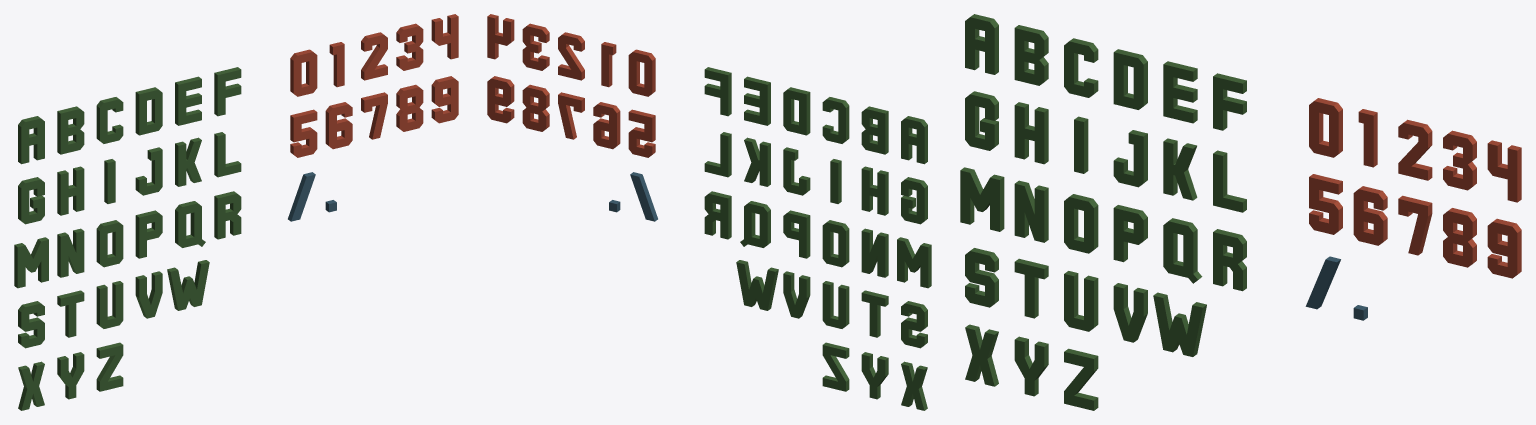
File: 3D_text_elements.glb
The picture shows the model from 3 angles, left to right: view 1: azimuth 30°, elevation 25°; view 2: azimuth 150°, elevation 25°; view 3: azimuth 330°, elevation 25°; orthographic projection. The views are drawn at different scales.
Parts seen in each view (by area): view 1: W, M, N, B, D, R, Q, 8, G, 6, 9, H (+25 smaller); view 2: W, M, N, B, D, R, Q, 8, G, 6, 9, H (+25 smaller); view 3: M, W, N, B, Q, D, 6, 9, G, R, H, O (+25 smaller).
Boxes of the visible parts, x1=… form: W: x1=167, y1=260, x2=209, y2=310; M: x1=14, y1=237, x2=48, y2=288; N: x1=57, y1=228, x2=84, y2=277; B: x1=57, y1=106, x2=84, y2=154; D: x1=135, y1=87, x2=162, y2=135; R: x1=214, y1=191, x2=241, y2=239; Q: x1=175, y1=201, x2=205, y2=247; 8: x1=396, y1=84, x2=423, y2=131; G: x1=18, y1=177, x2=44, y2=224; 6: x1=325, y1=102, x2=352, y2=149; 9: x1=431, y1=76, x2=458, y2=123; H: x1=57, y1=166, x2=84, y2=215; W: x1=736, y1=260, x2=778, y2=310; M: x1=897, y1=237, x2=931, y2=288; N: x1=861, y1=228, x2=888, y2=277; B: x1=861, y1=106, x2=888, y2=154; D: x1=783, y1=87, x2=810, y2=135; R: x1=704, y1=191, x2=731, y2=239; Q: x1=740, y1=201, x2=770, y2=247; 8: x1=522, y1=84, x2=549, y2=131; G: x1=901, y1=177, x2=927, y2=224; 6: x1=593, y1=102, x2=620, y2=149; 9: x1=487, y1=76, x2=514, y2=123; H: x1=861, y1=166, x2=888, y2=215; M: x1=960, y1=167, x2=1004, y2=231; W: x1=1153, y1=292, x2=1206, y2=356; N: x1=1014, y1=180, x2=1048, y2=242; B: x1=1014, y1=25, x2=1048, y2=85; Q: x1=1163, y1=218, x2=1202, y2=283; D: x1=1113, y1=49, x2=1147, y2=109; 6: x1=1353, y1=186, x2=1387, y2=245; 9: x1=1487, y1=218, x2=1521, y2=278; G: x1=965, y1=91, x2=998, y2=150; R: x1=1213, y1=229, x2=1246, y2=291; H: x1=1014, y1=102, x2=1048, y2=164; O: x1=1064, y1=194, x2=1098, y2=253.
Size of the model in its own units: 22.45 by 14 by 0.3.
1 material, 1 textured.
